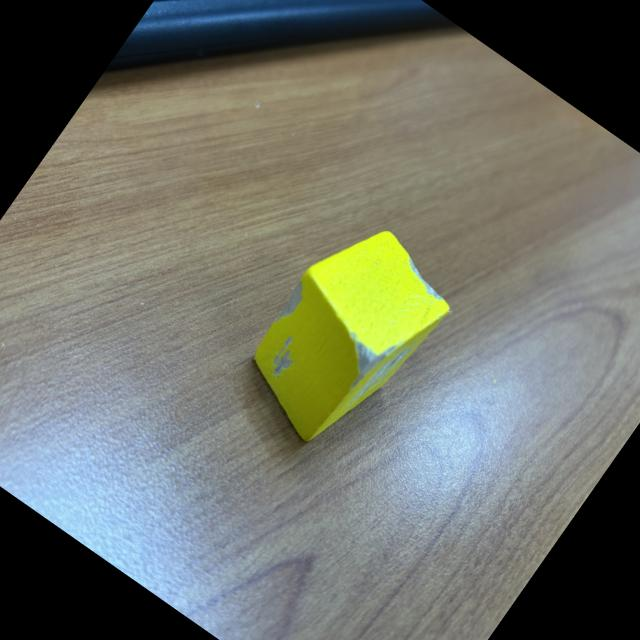broken: (224, 203, 467, 468)
